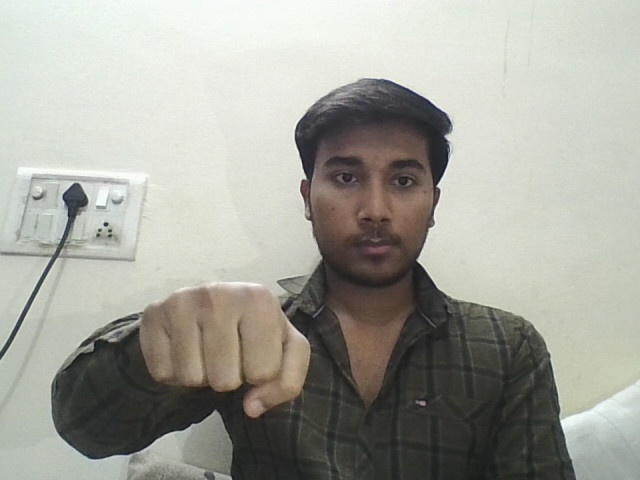yes: (96, 258, 376, 429)
